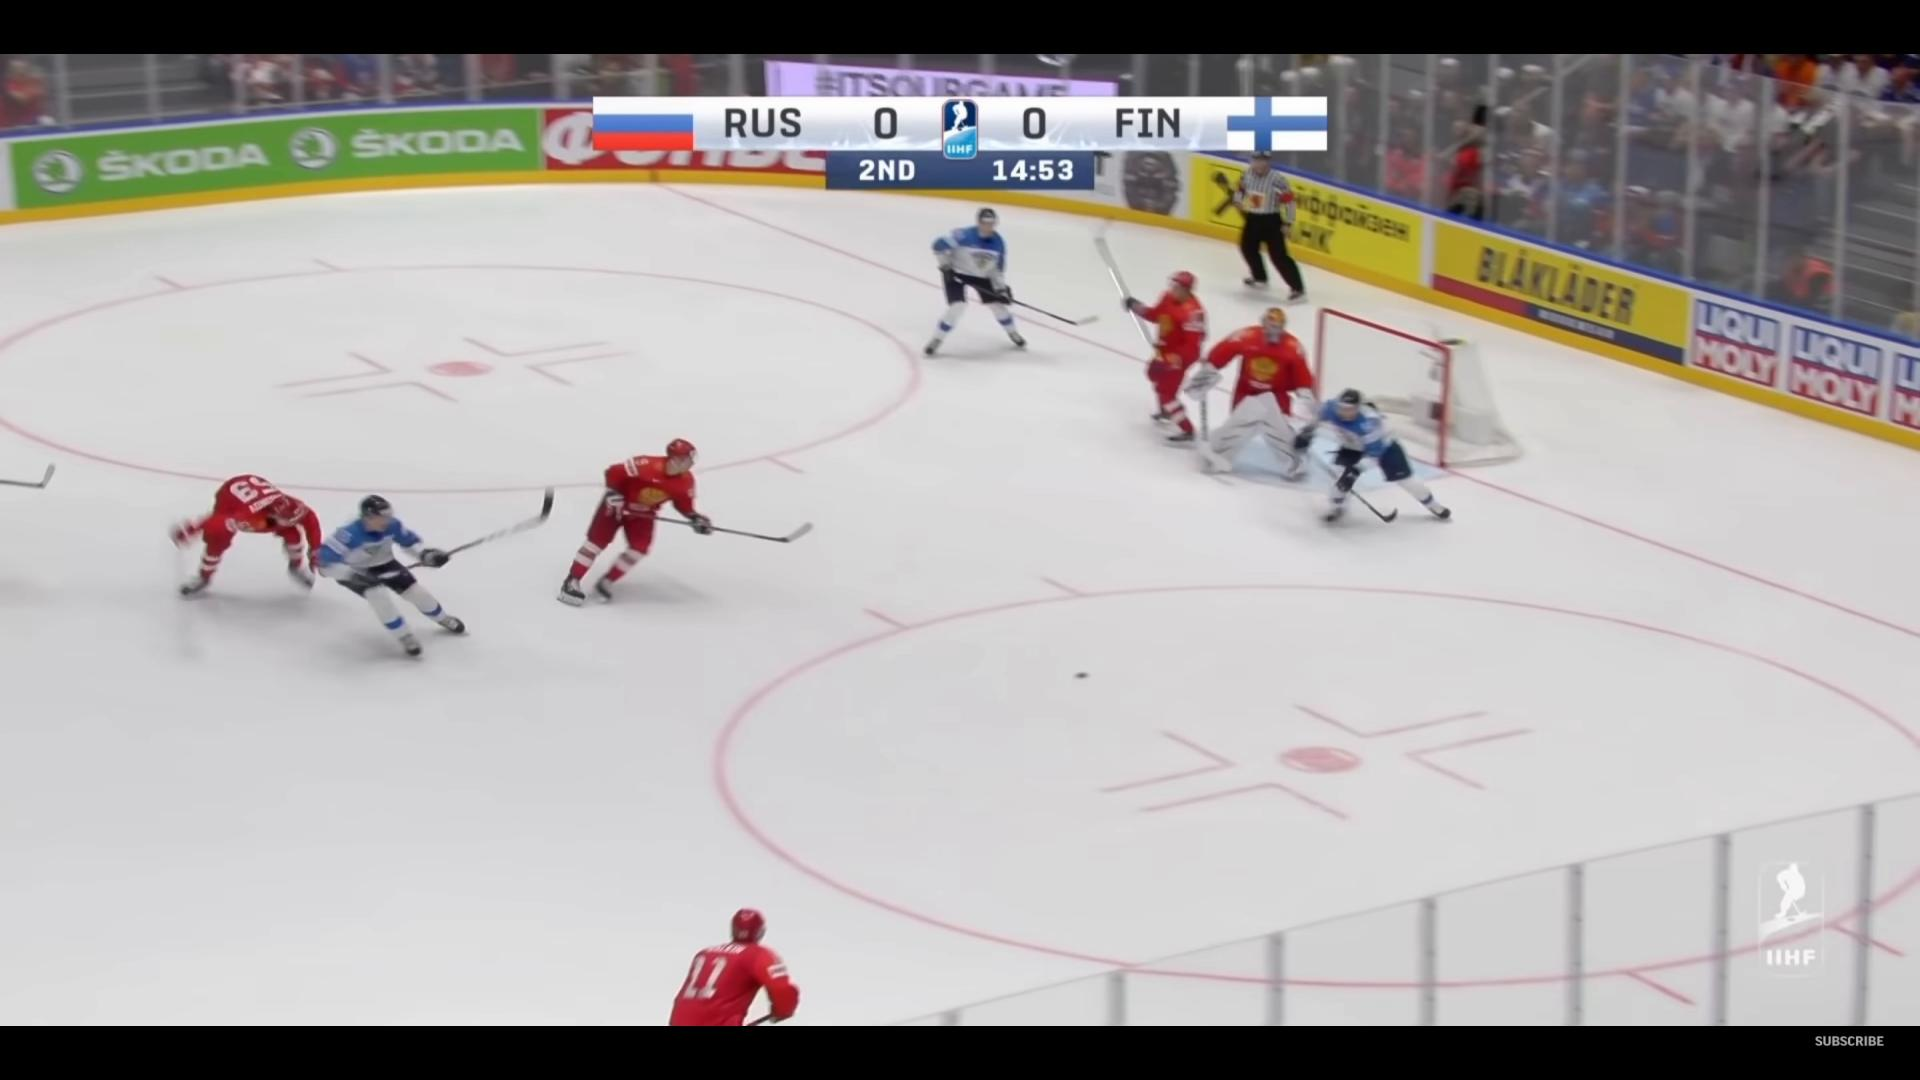puck: (1072, 671, 1089, 679)
